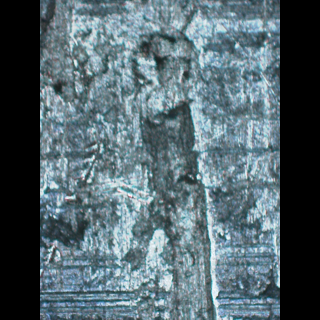d: (116, 25, 227, 320)
